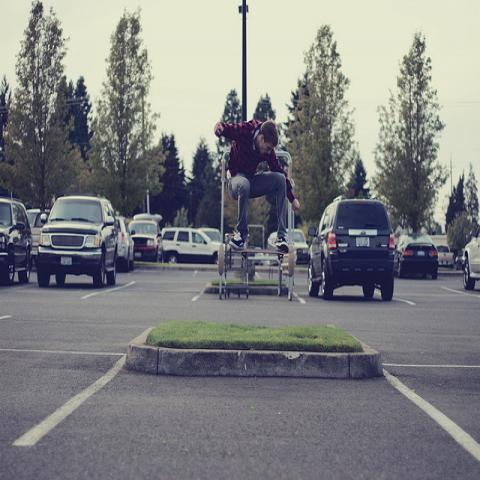car: (307, 194, 395, 302), (36, 196, 119, 289), (0, 197, 33, 285), (161, 227, 231, 265), (394, 234, 439, 279), (128, 218, 164, 264), (265, 229, 309, 266), (116, 213, 136, 276), (463, 214, 479, 291), (27, 210, 51, 255), (436, 244, 454, 269)
